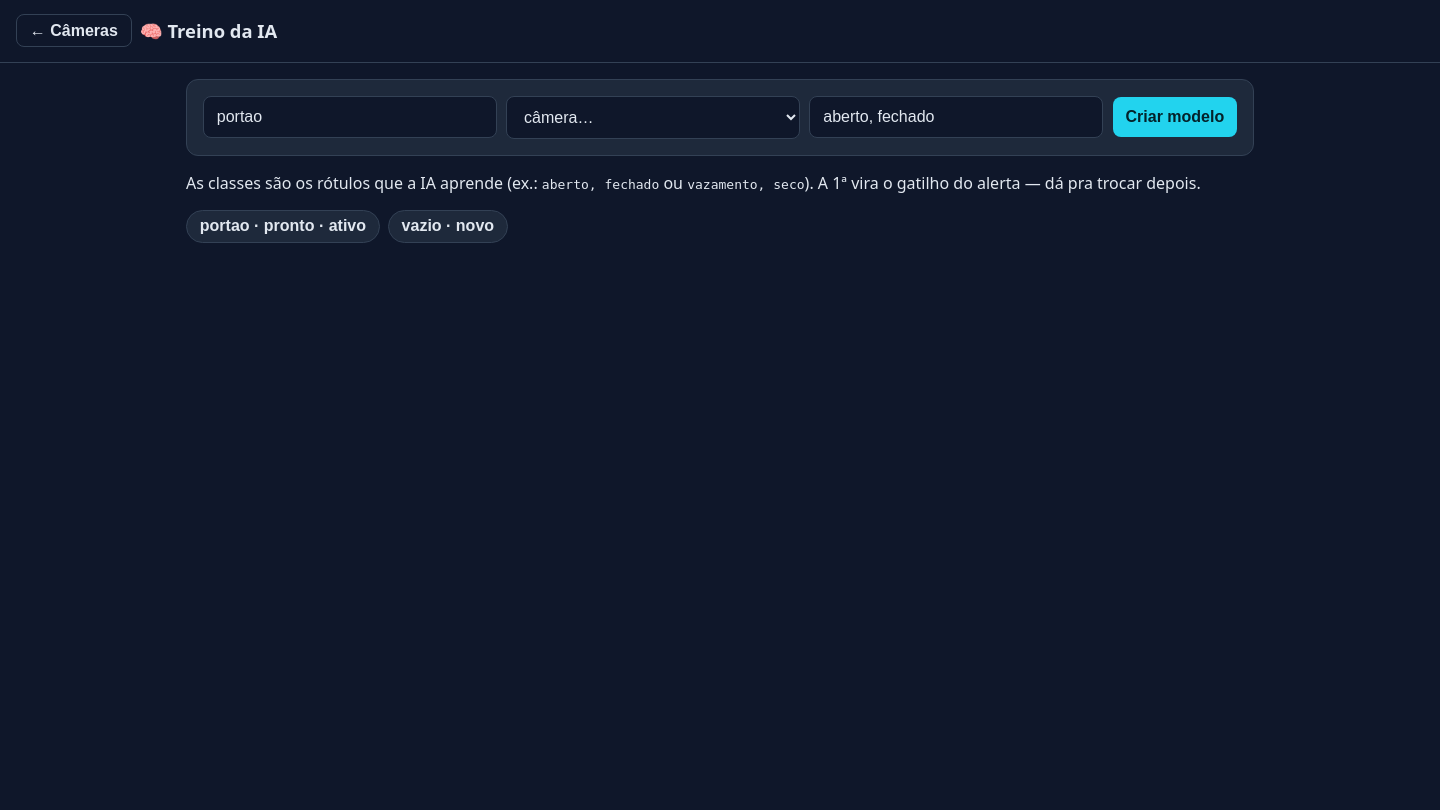
Test: Training › selects model 2: no preview, inactive, actions disabled until trained
Click the button "vazio · novo".
click(448, 226)  # box [388, 210, 508, 243]
(page scrolled)
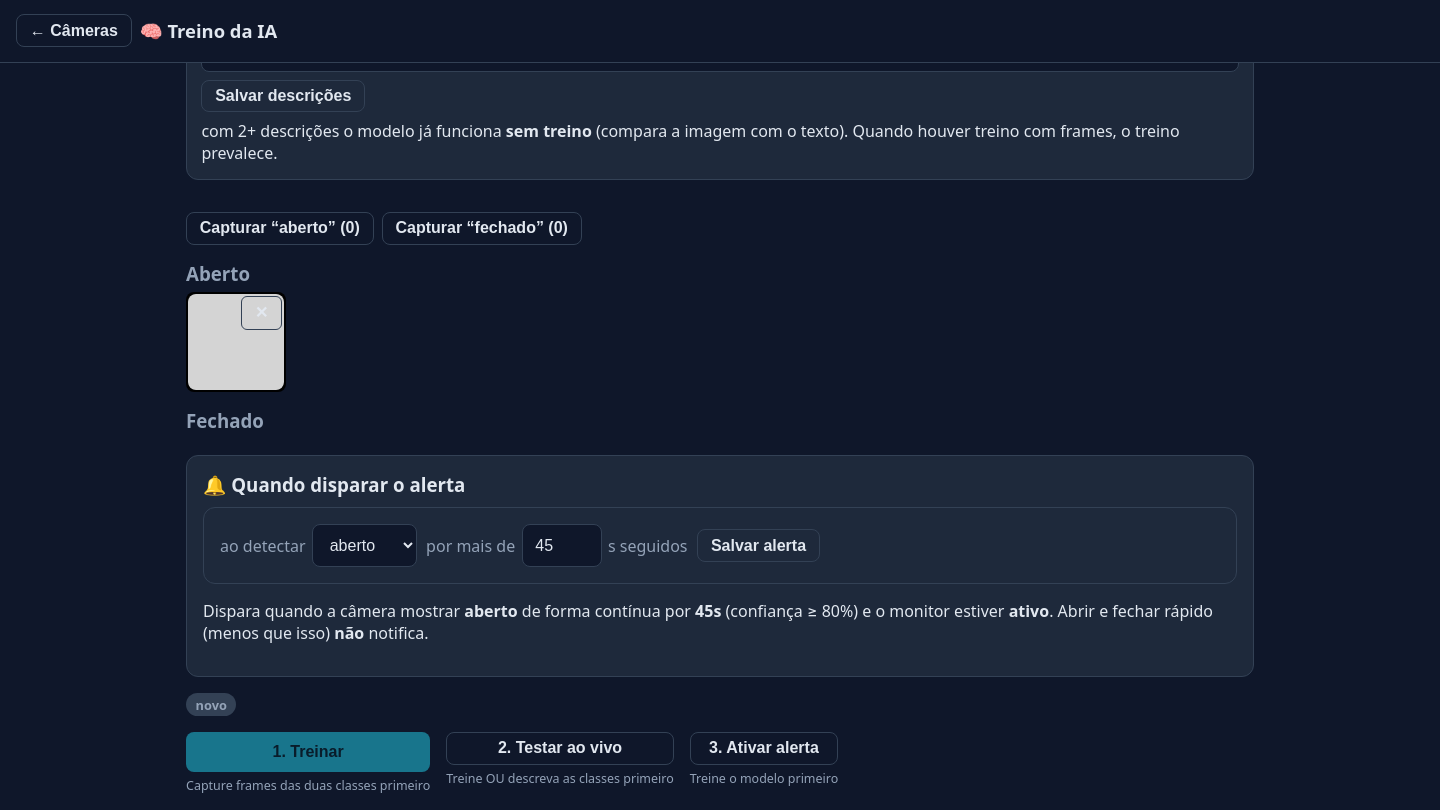
Expected: the button "3. Ativar alerta" is disabled, [690, 732, 838, 765]
Expected: the button "2. Testar ao vivo" is disabled, [446, 732, 674, 765]
Expected: the button "1. Treinar" is disabled, [186, 732, 430, 772]
